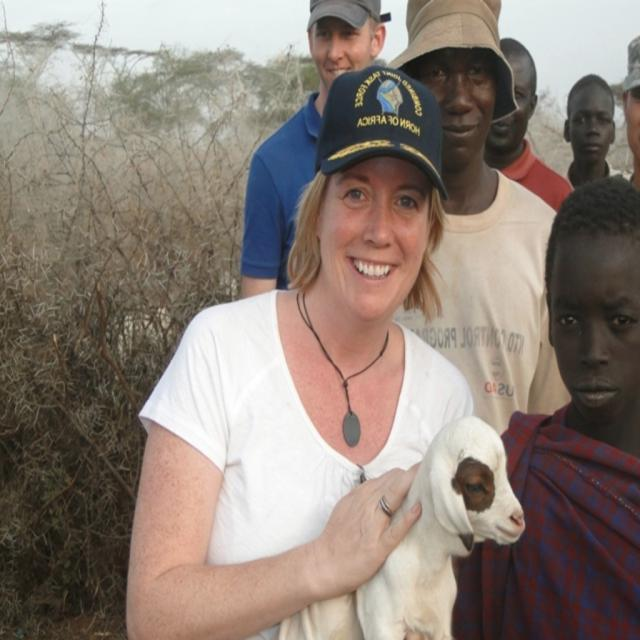Goat: (277, 413, 527, 639)
